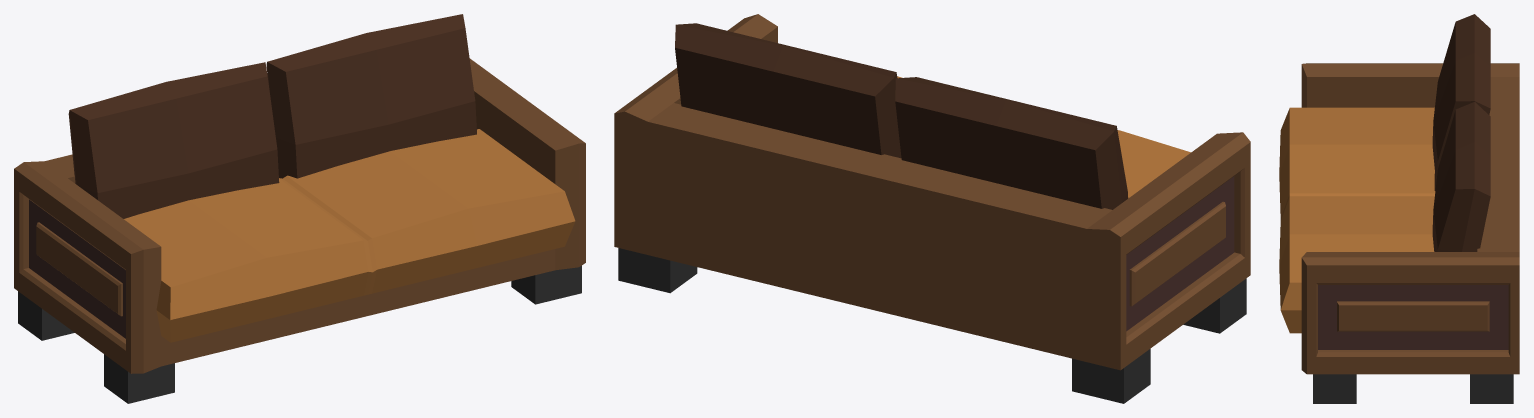
The model's file is sofa.glb.
The picture shows the model from 3 angles, left to right: view 1: azimuth 30°, elevation 25°; view 2: azimuth 150°, elevation 25°; view 3: azimuth 270°, elevation 25°; orthographic projection. The views are drawn at different scales.
Visible parts, largest first — view 1: Prop_Sofa_02_E_PandaMat_0; view 2: Prop_Sofa_02_E_PandaMat_0; view 3: Prop_Sofa_02_E_PandaMat_0.
Boxes of the visible parts, bbox=[...] form: Prop_Sofa_02_E_PandaMat_0: bbox=[14, 14, 585, 403]; Prop_Sofa_02_E_PandaMat_0: bbox=[614, 14, 1250, 403]; Prop_Sofa_02_E_PandaMat_0: bbox=[1279, 14, 1519, 403].
Bounding box in the file's own units: 2 × 0.95 × 1.01.
1 material, 1 textured.
